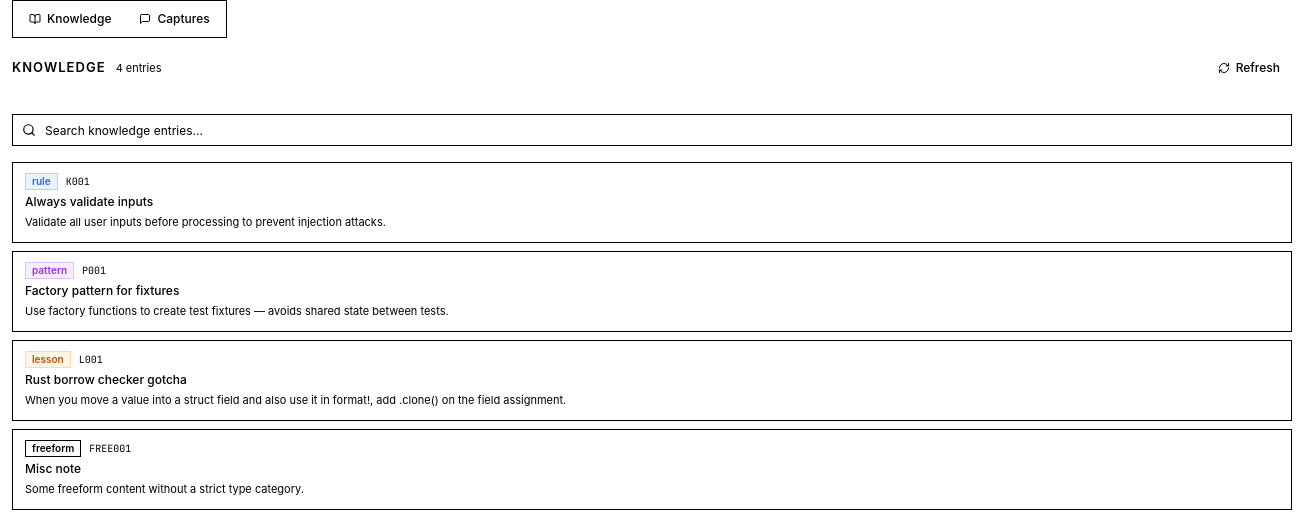
KnowledgeCapturesPanel › shows error message for captures tab when query returns error
Click the button with test id "tab-captures": (175,19) [128,5,222,33]
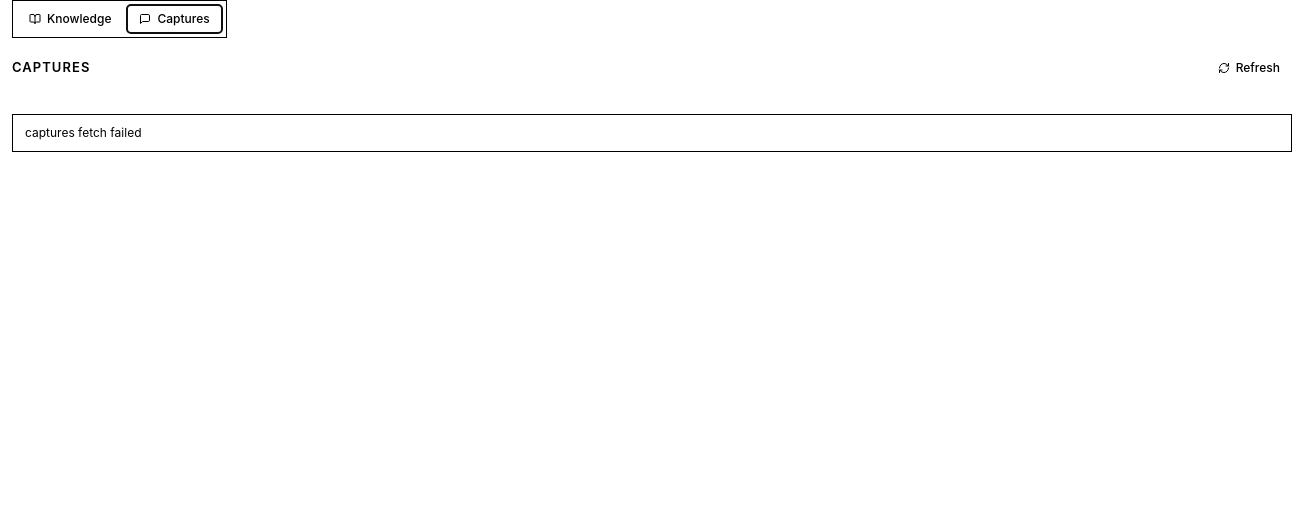
Expected: the text "captures fetch failed" is shown, [12,114,1292,152]
